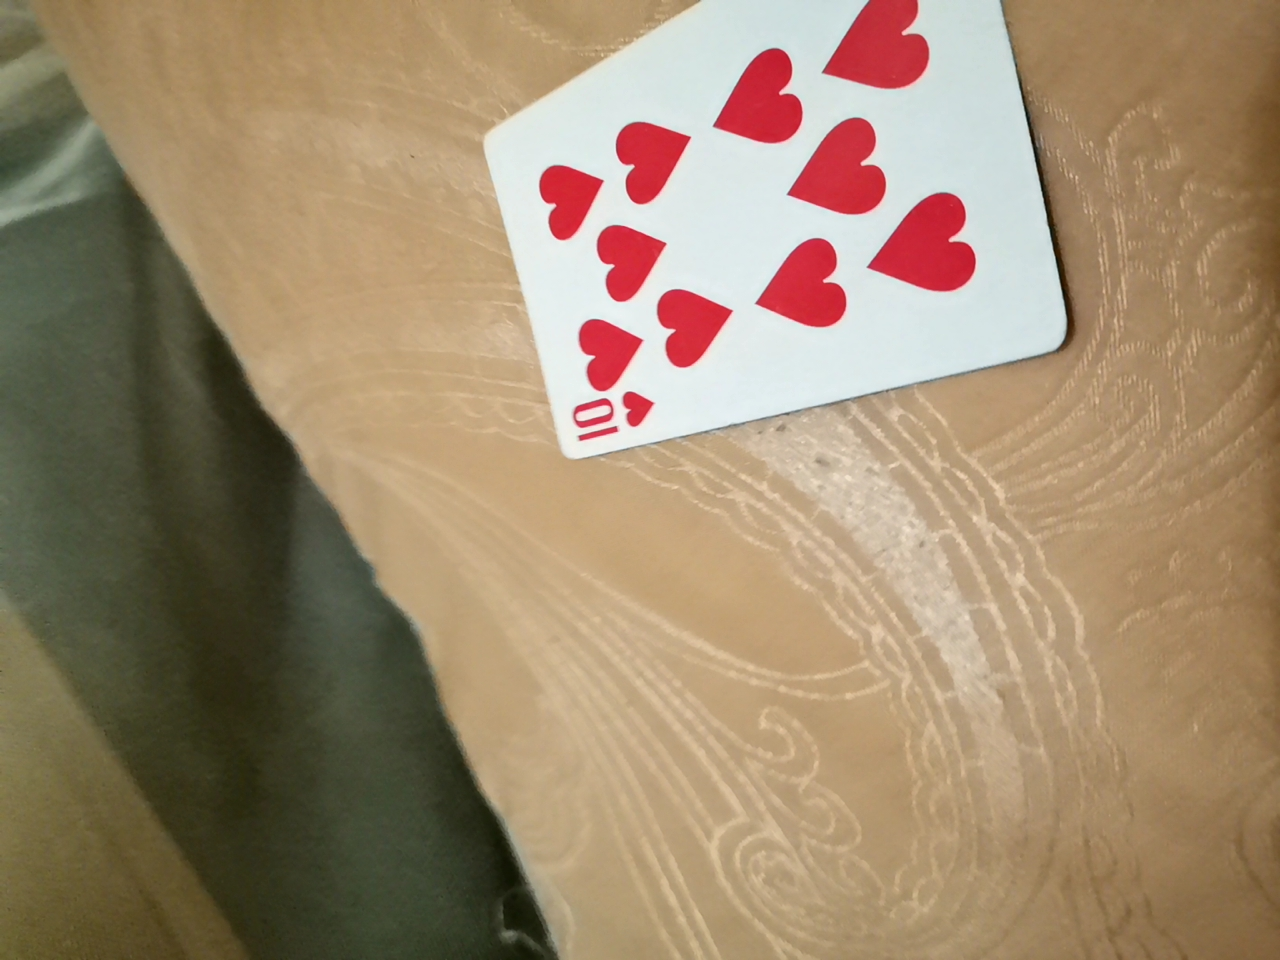hx 10: (482, 0, 1061, 485)
